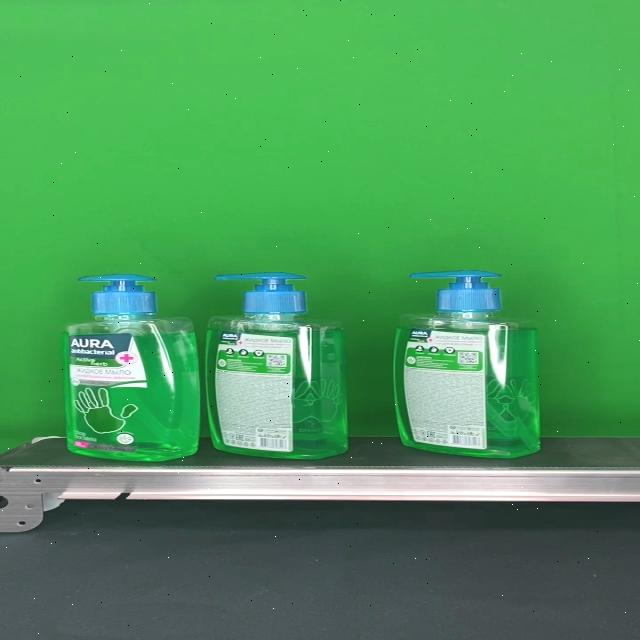Bottle: (394, 270, 540, 458), (205, 270, 348, 460), (63, 274, 198, 462)
Cap: (410, 270, 502, 313), (215, 271, 306, 314), (76, 274, 156, 315)
